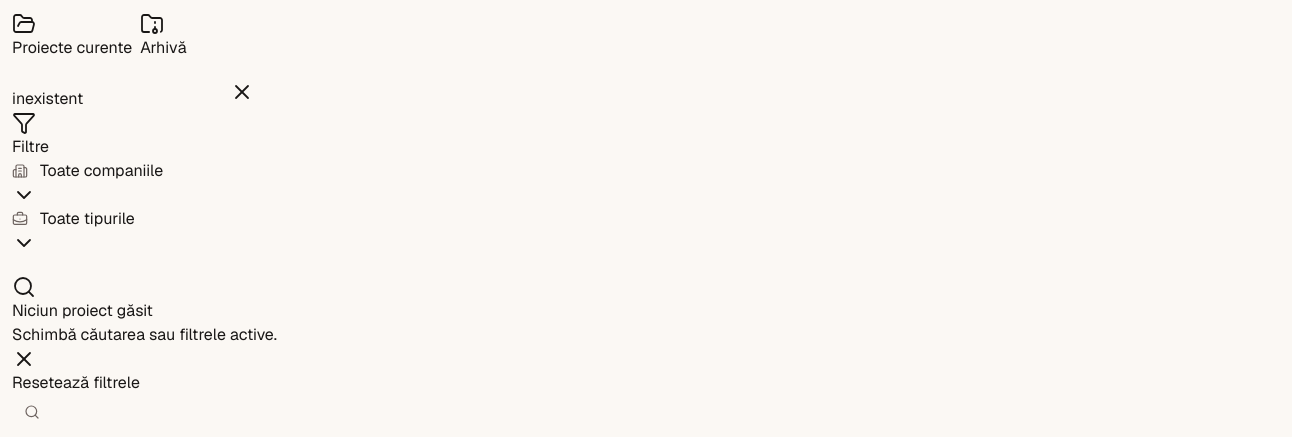
Scenario: ProjectsWorkspace › resets an archive search without leaving the archive view
Expected: the text "Niciun proiect găsit" is shown, [12,300,153,321]
What coordinates should you click on to do the following:
click the button "Resetează filtrele"
I would click on:
 (76, 371)
Its box is [12,347,140,395].
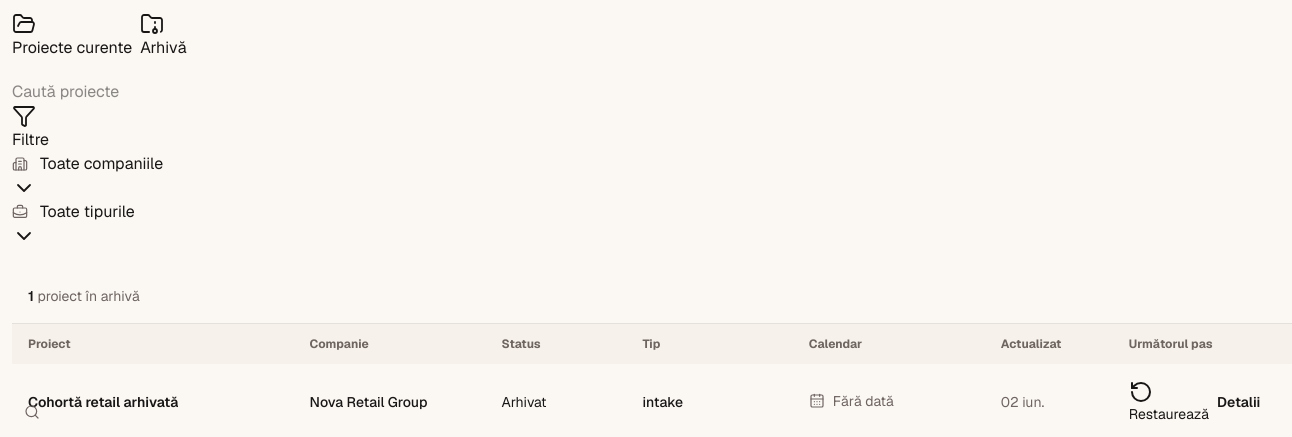
Expected: the text "Cohortă retail arhivată" is shown, [28,392,178,412]
